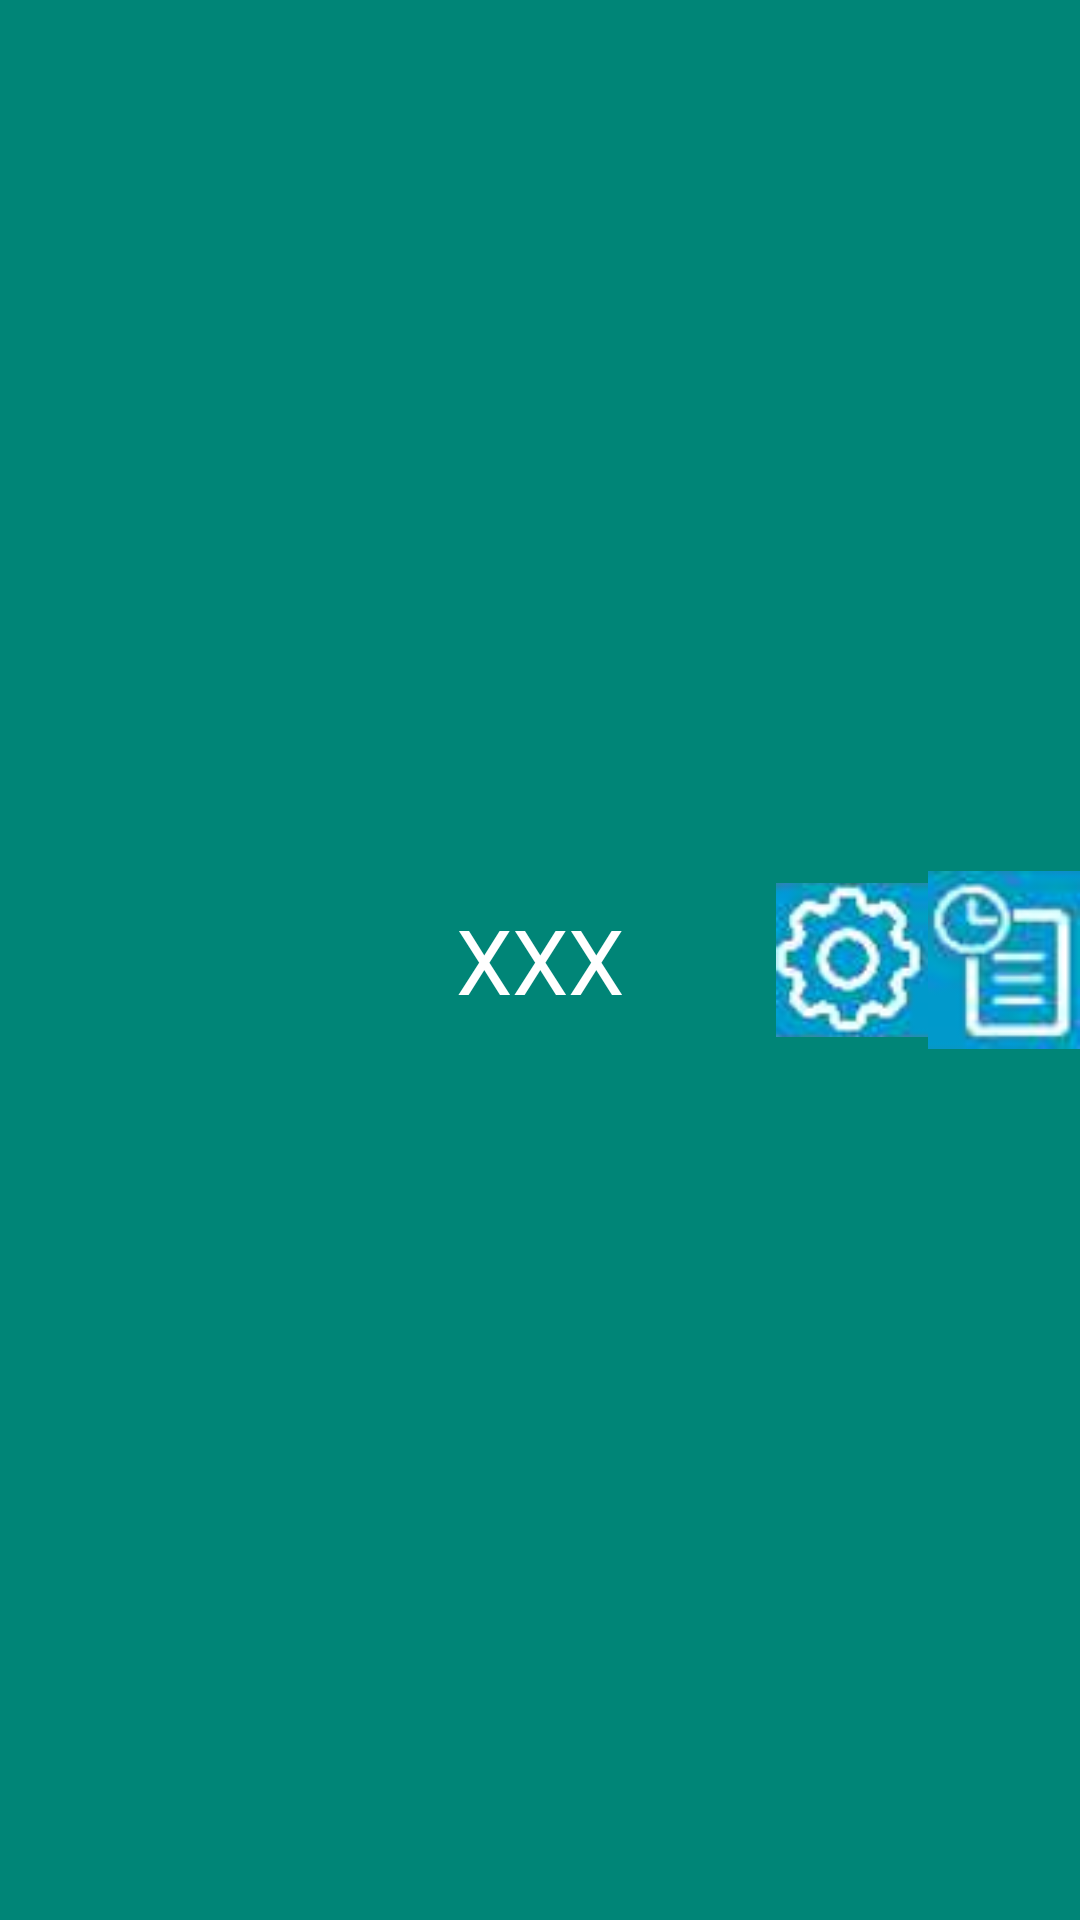

Where to tap for icons on this 1080 × 1920 app screen, as (x,y):
shezhi: (852,960)
xiangqing: (1004,960)
